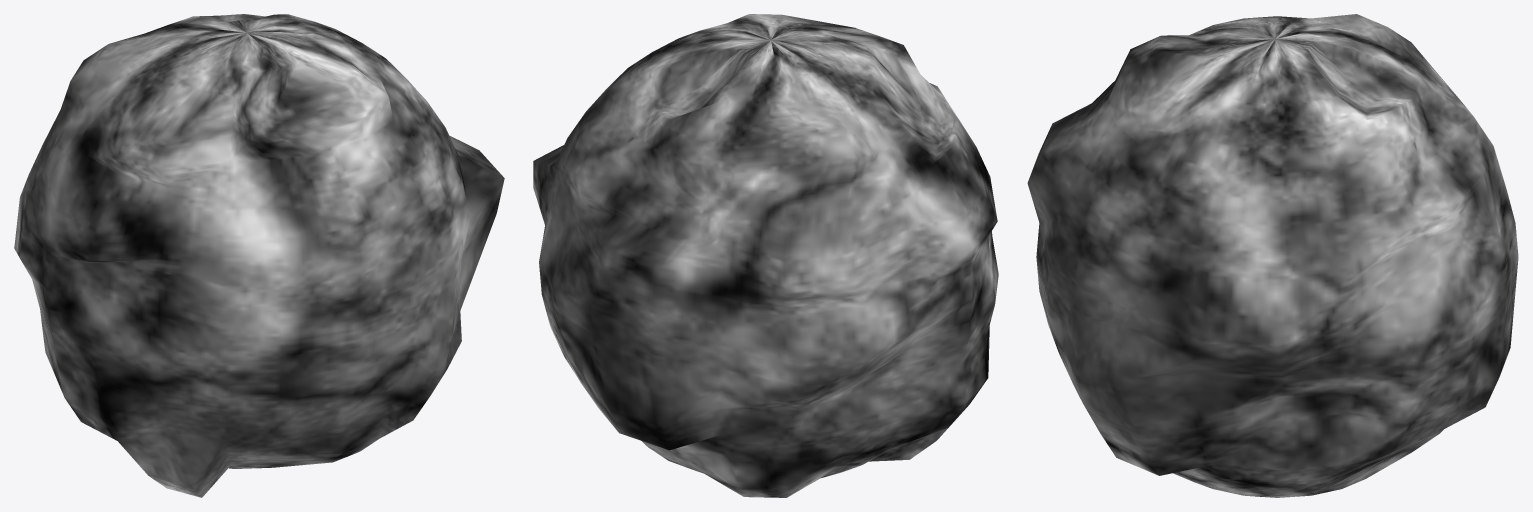
Rendered from sphere germ.obj.
The picture shows the model from 3 angles, left to right: view 1: azimuth 30°, elevation 25°; view 2: azimuth 150°, elevation 25°; view 3: azimuth 270°, elevation 25°; orthographic projection. The views are drawn at different scales.
Visible parts, largest first — view 1: pSphere1; view 2: pSphere1; view 3: pSphere1.
Boxes of the visible parts, x1=… form: pSphere1: x1=14, y1=14, x2=504, y2=497; pSphere1: x1=533, y1=14, x2=998, y2=497; pSphere1: x1=1027, y1=14, x2=1518, y2=497.
Size of the model in its own units: 2.18 by 1.99 by 2.04.
1 material, 1 textured.
